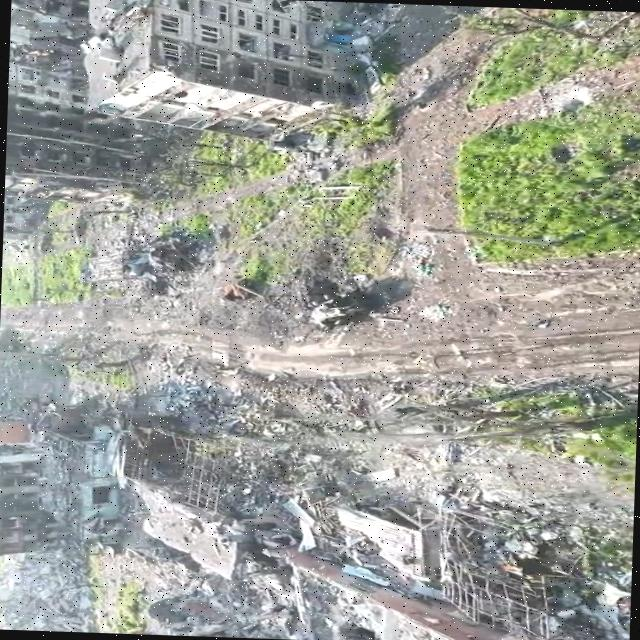Destroyed: (311, 294, 375, 333)
